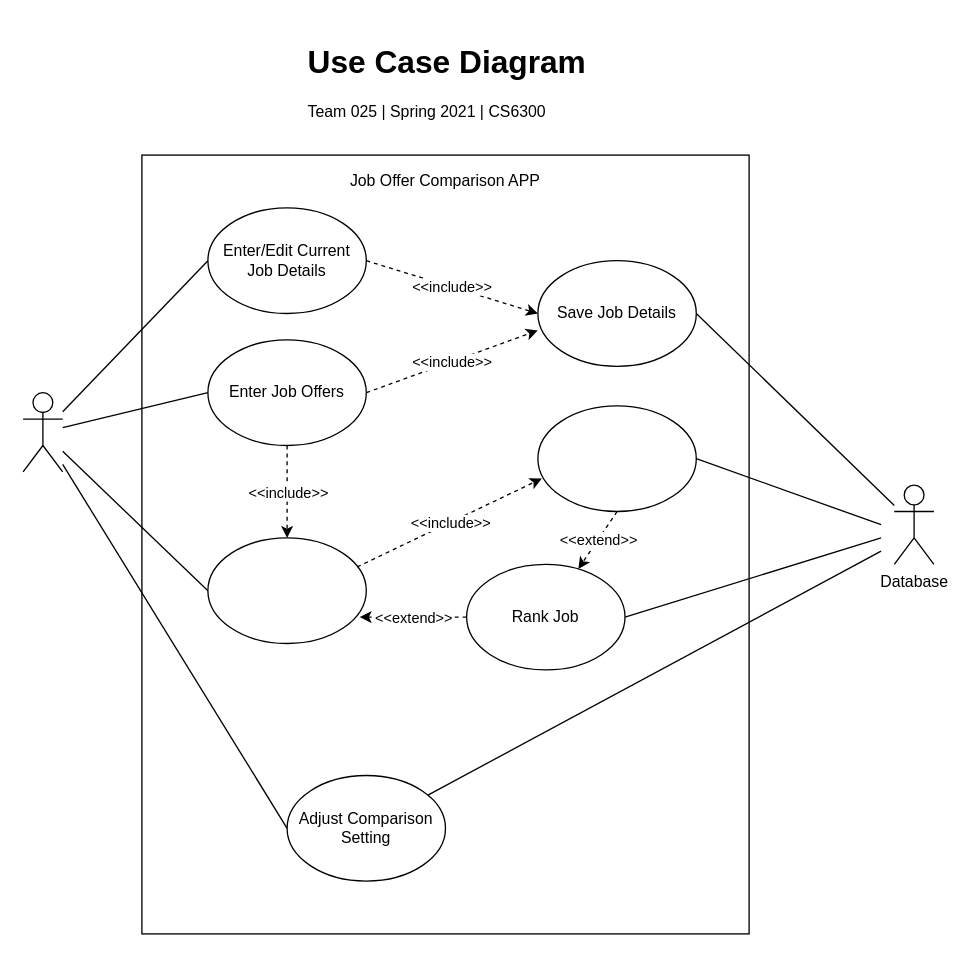
This 970x957 diagram has some shape labels left out. Here are the shapes that lost their labels. From the top down, the centre of each, then its label:
At pixel 42 431: "User".
At pixel 616 458: "Calculate Job Score".
At pixel 286 590: "Compare Job Offer".
